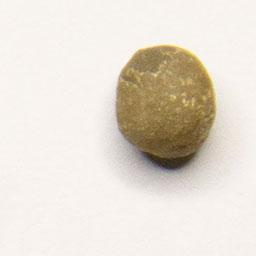peaberry: (112, 41, 219, 162)
